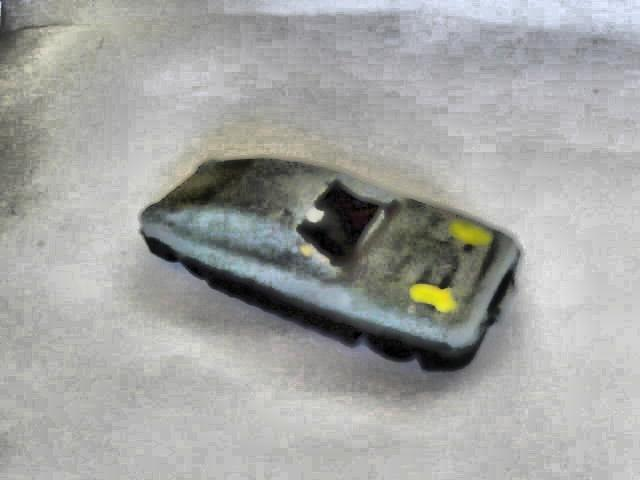normal_car: (132, 146, 529, 372)
